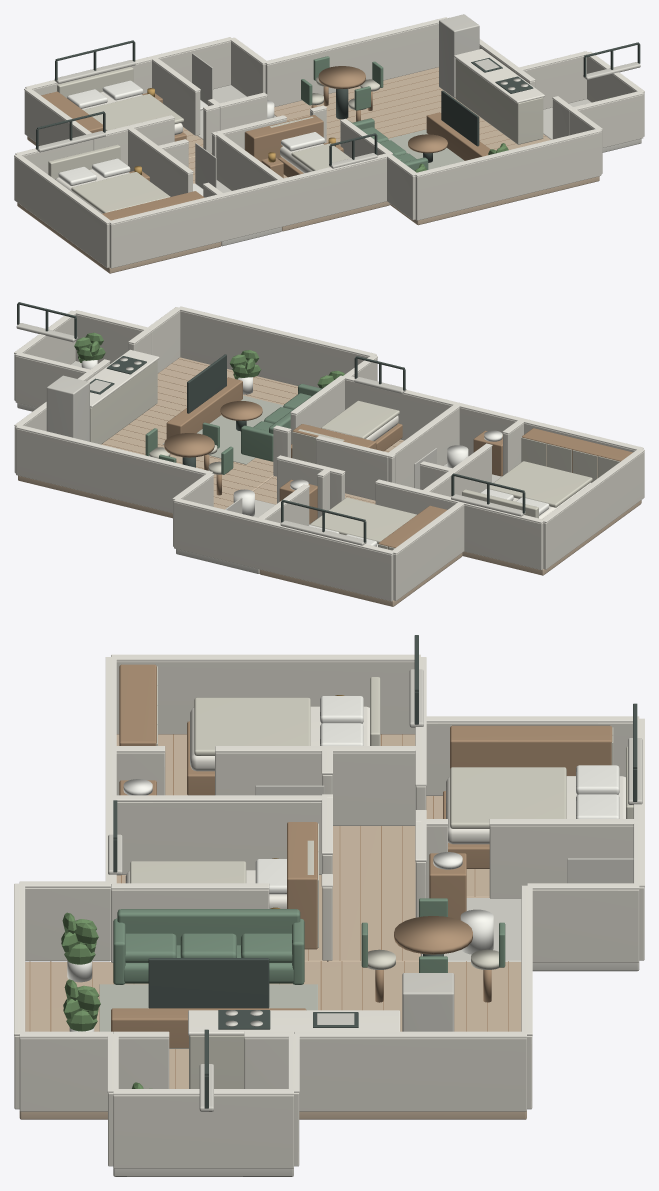
Rendered from moradas-plan-3bed.glb.
The picture shows the model from 3 angles, top to bottom: view 1: azimuth 30°, elevation 25°; view 2: azimuth 150°, elevation 25°; view 3: azimuth 270°, elevation 25°; orthographic projection. The views are drawn at different scales.
Parts seen in each view (by area): view 1: architecture_plaster.001, architecture_ivory.001, living_floor.001, bedroom_linen.001, living_oak.001, kitchen_linen.001, bathroom_stone.001, kitchen_stone.001, single_oak.001, bedroom_ceramic.001, living_sage.001, bedroom_oak.001 (+13 smaller); view 2: architecture_plaster.001, architecture_ivory.001, bedroom_linen.001, living_floor.001, living_oak.001, living_sage.001, kitchen_linen.001, kitchen_stone.001, single_linen.001, bedroom_oak.001, bedroom_floor.001, architecture_stone.001 (+12 smaller); view 3: architecture_plaster.001, architecture_ivory.001, living_floor.001, bedroom_linen.001, living_sage.001, bedroom_oak.001, architecture_floor.001, living_oak.001, living_charcoal.001, bathroom_stone.001, bedroom_ceramic.001, kitchen_stone.001 (+16 smaller).
Boxes of the visible parts, x1,y1,x2,y2 form: architecture_plaster.001: [14, 23, 644, 268]; architecture_ivory.001: [14, 17, 644, 224]; living_floor.001: [274, 67, 599, 225]; bedroom_linen.001: [48, 66, 183, 213]; living_oak.001: [274, 66, 546, 160]; kitchen_linen.001: [455, 59, 543, 144]; bathroom_stone.001: [192, 53, 281, 246]; kitchen_stone.001: [439, 14, 528, 97]; single_oak.001: [245, 115, 343, 178]; bedroom_ceramic.001: [58, 80, 143, 185]; living_sage.001: [301, 56, 428, 170]; bedroom_oak.001: [41, 91, 204, 220]; architecture_plaster.001: [14, 311, 644, 601]; architecture_ivory.001: [14, 306, 644, 554]; bedroom_linen.001: [310, 437, 619, 550]; living_floor.001: [18, 357, 297, 518]; living_oak.001: [102, 358, 297, 506]; living_sage.001: [145, 384, 325, 474]; kitchen_linen.001: [90, 360, 157, 444]; kitchen_stone.001: [46, 357, 141, 441]; single_linen.001: [292, 400, 399, 463]; bedroom_oak.001: [378, 428, 632, 549]; bedroom_floor.001: [259, 500, 641, 606]; architecture_stone.001: [16, 323, 525, 545]; architecture_plaster.001: [14, 661, 644, 1168]; architecture_ivory.001: [14, 654, 644, 1095]; living_floor.001: [19, 962, 526, 1119]; bedroom_linen.001: [156, 666, 633, 828]; living_sage.001: [113, 898, 505, 984]; bedroom_oak.001: [119, 664, 612, 896]; architecture_floor.001: [327, 826, 420, 961]; living_oak.001: [29, 916, 508, 1088]; living_charcoal.001: [148, 954, 443, 1008]; bathroom_stone.001: [255, 785, 639, 971]; bedroom_ceramic.001: [320, 696, 619, 818]; kitchen_stone.001: [225, 973, 454, 1031].
Size of the model in its own units: 10.93 by 1.39 by 6.37.
